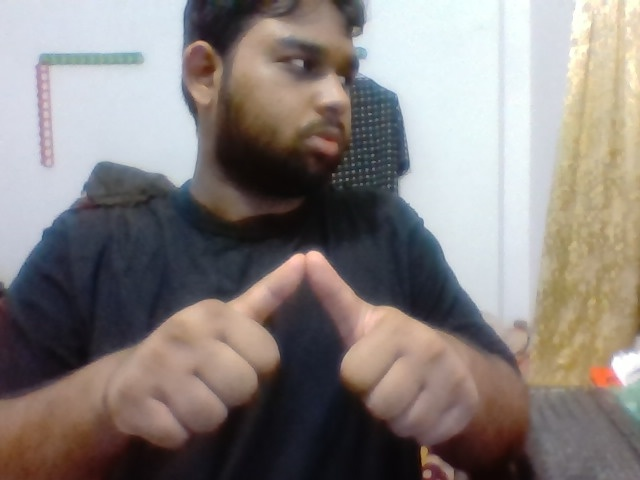A: (107, 244, 481, 473)
